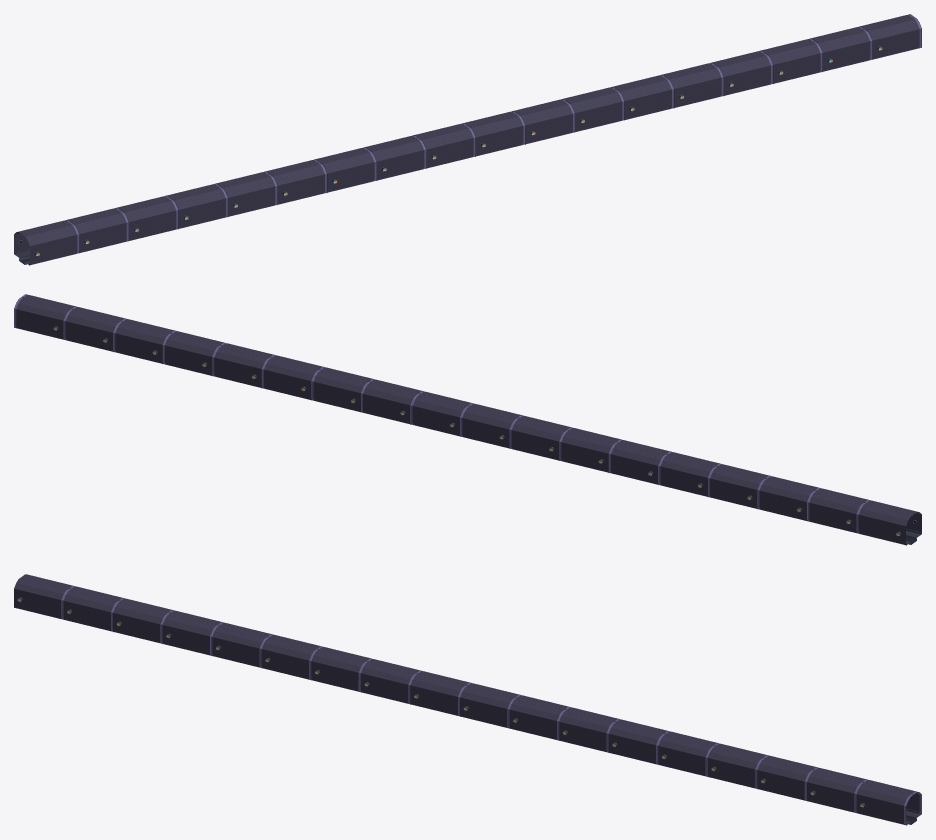
Rendered from Interior_Tunnel_Test.fbx.
The picture shows the model from 3 angles, top to bottom: view 1: azimuth 30°, elevation 25°; view 2: azimuth 150°, elevation 25°; view 3: azimuth 330°, elevation 25°; orthographic projection.
Parts seen in each view (by area): view 1: Plane.040; view 2: Plane.040; view 3: Plane.040.
Boxes of the visible parts, x1,y1,x2,y2 form: Plane.040: [14, 14, 921, 265]; Plane.040: [14, 294, 921, 545]; Plane.040: [14, 574, 921, 825].
Bounding box in the file's own units: 45574 × 1398 × 1635.
